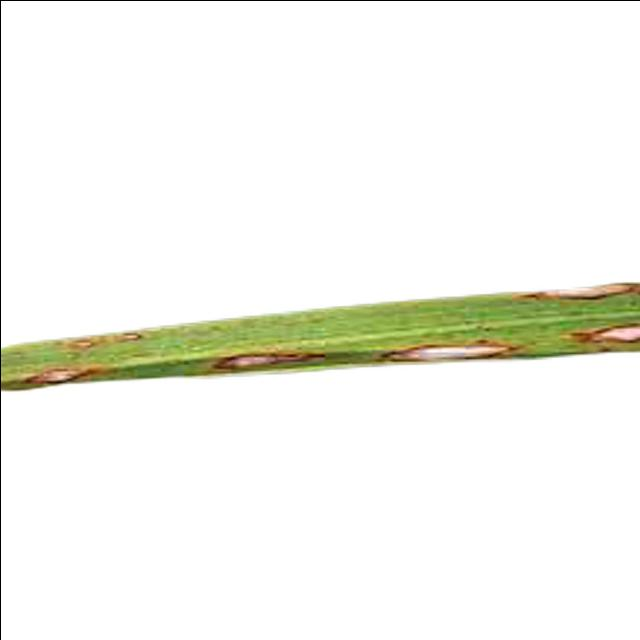Leaf blast: (0, 147, 640, 458)
